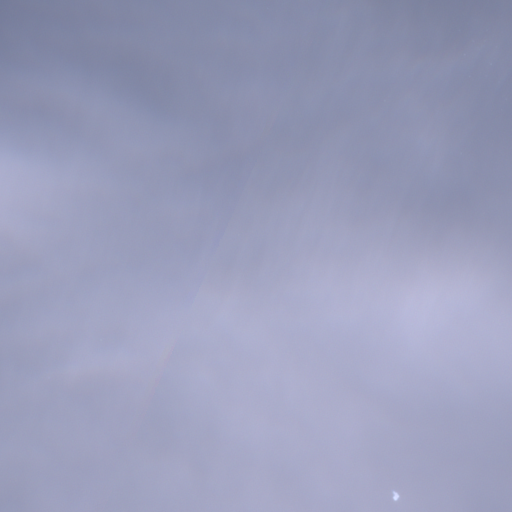Iceberg: (393, 491, 398, 500)
